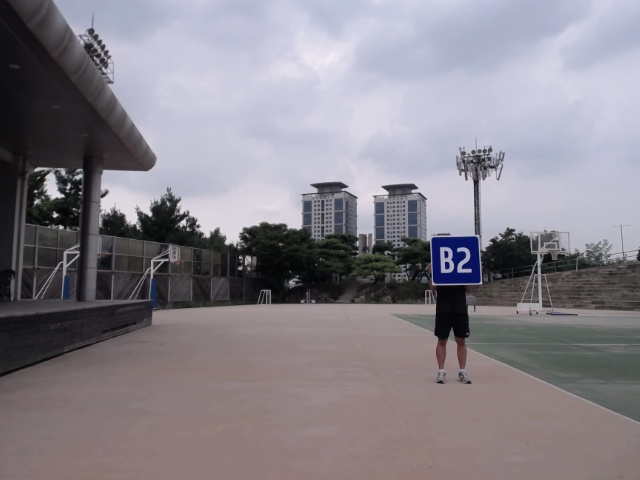delivery_b2: (429, 234, 483, 287)
